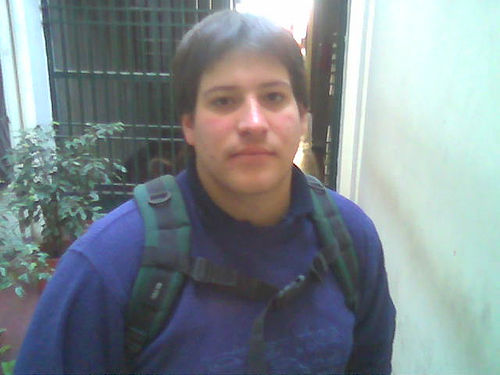without_mask: (180, 51, 308, 197)
